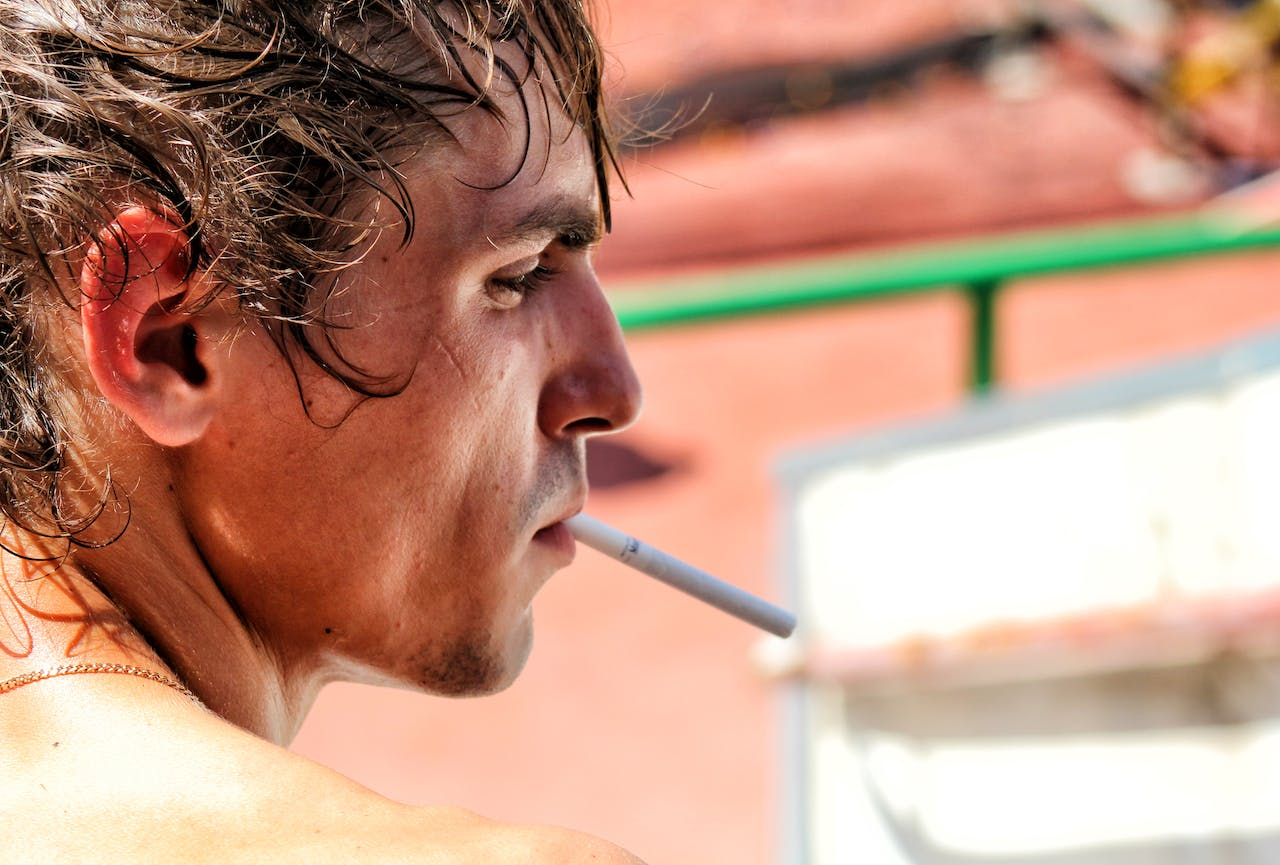Cigarette: (561, 507, 799, 640)
